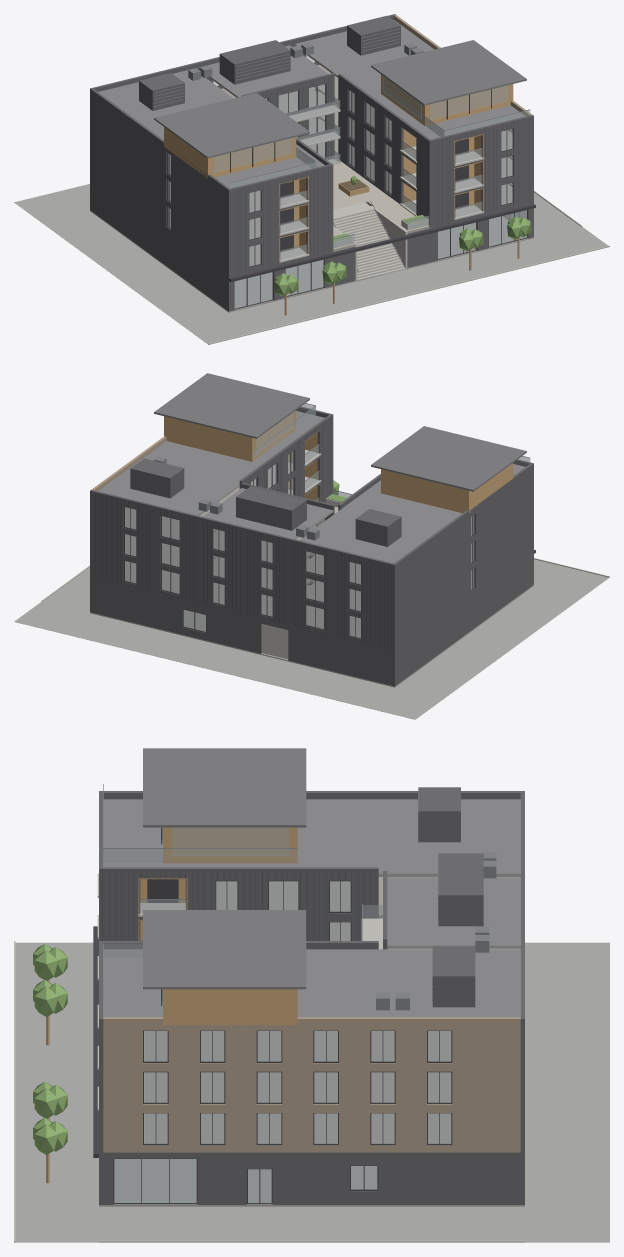
Rendered from clay-courtyard-mixed-use-midrise-clay-v002.glb.
The picture shows the model from 3 angles, top to bottom: view 1: azimuth 30°, elevation 25°; view 2: azimuth 150°, elevation 25°; view 3: azimuth 270°, elevation 25°; orthographic projection. The views are drawn at different scales.
Visible parts, largest first — view 1: CLAY_WALL, CLAY_FOUNDATION, CLAY_GLASS, CLAY_ROOF, CLAY_MEMBRANE, CLAY_CEDAR, CLAY_CONCRETE, CLAY_TRIM, CLAY_FLOOR, CLAY_JOINT, CLAY_HARDWARE, CLAY_PLANTING (+3 smaller); view 2: CLAY_WALL, CLAY_FOUNDATION, CLAY_MEMBRANE, CLAY_ROOF, CLAY_GLASS, CLAY_CEDAR, CLAY_FLOOR, CLAY_JOINT, CLAY_TRIM, CLAY_HARDWARE, CLAY_PALE, CLAY_TAN; view 3: CLAY_FOUNDATION, CLAY_WALL, CLAY_TAN, CLAY_MEMBRANE, CLAY_GLASS, CLAY_ROOF, CLAY_FLOOR, CLAY_CEDAR, CLAY_TRIM, CLAY_PLANTING, CLAY_HARDWARE, CLAY_STONE (+2 smaller).
Boxes of the visible parts, left/top/right/bottom form: CLAY_WALL: left=90, top=14, right=533, bottom=311; CLAY_FOUNDATION: left=14, top=184, right=608, bottom=344; CLAY_GLASS: left=168, top=55, right=530, bottom=308; CLAY_ROOF: left=154, top=40, right=526, bottom=158; CLAY_MEMBRANE: left=98, top=20, right=525, bottom=188; CLAY_CEDAR: left=164, top=74, right=513, bottom=260; CLAY_CONCRETE: left=279, top=105, right=484, bottom=280; CLAY_TRIM: left=167, top=61, right=535, bottom=309; CLAY_FLOOR: left=169, top=44, right=512, bottom=266; CLAY_JOINT: left=238, top=76, right=529, bottom=274; CLAY_HARDWARE: left=154, top=28, right=530, bottom=272; CLAY_PLANTING: left=274, top=176, right=531, bottom=296; CLAY_WALL: left=90, top=406, right=533, bottom=686; CLAY_FOUNDATION: left=14, top=559, right=609, bottom=719; CLAY_MEMBRANE: left=98, top=411, right=525, bottom=563; CLAY_ROOF: left=154, top=373, right=526, bottom=491; CLAY_GLASS: left=125, top=403, right=530, bottom=637; CLAY_CEDAR: left=164, top=410, right=513, bottom=513; CLAY_FLOOR: left=125, top=455, right=473, bottom=637; CLAY_JOINT: left=95, top=417, right=391, bottom=650; CLAY_TRIM: left=124, top=450, right=535, bottom=638; CLAY_HARDWARE: left=154, top=403, right=529, bottom=540; CLAY_PALE: left=262, top=624, right=288, bottom=659; CLAY_TAN: left=92, top=436, right=166, bottom=490; CLAY_FOUNDATION: left=15, top=942, right=609, bottom=1242; CLAY_WALL: left=99, top=787, right=524, bottom=1204; CLAY_TAN: left=103, top=1017, right=520, bottom=1152; CLAY_MEMBRANE: left=103, top=799, right=520, bottom=1017; CLAY_GLASS: left=103, top=827, right=451, bottom=1202; CLAY_ROOF: left=143, top=748, right=306, bottom=989; CLAY_FLOOR: left=103, top=799, right=520, bottom=1143; CLAY_CEDAR: left=138, top=827, right=297, bottom=1025; CLAY_TRIM: left=93, top=827, right=452, bottom=1204; CLAY_PLANTING: left=33, top=944, right=67, bottom=1154; CLAY_HARDWARE: left=103, top=784, right=496, bottom=1010; CLAY_STONE: left=14, top=941, right=524, bottom=1242.
Size of the model in its own units: 50 by 17.52 by 42.
